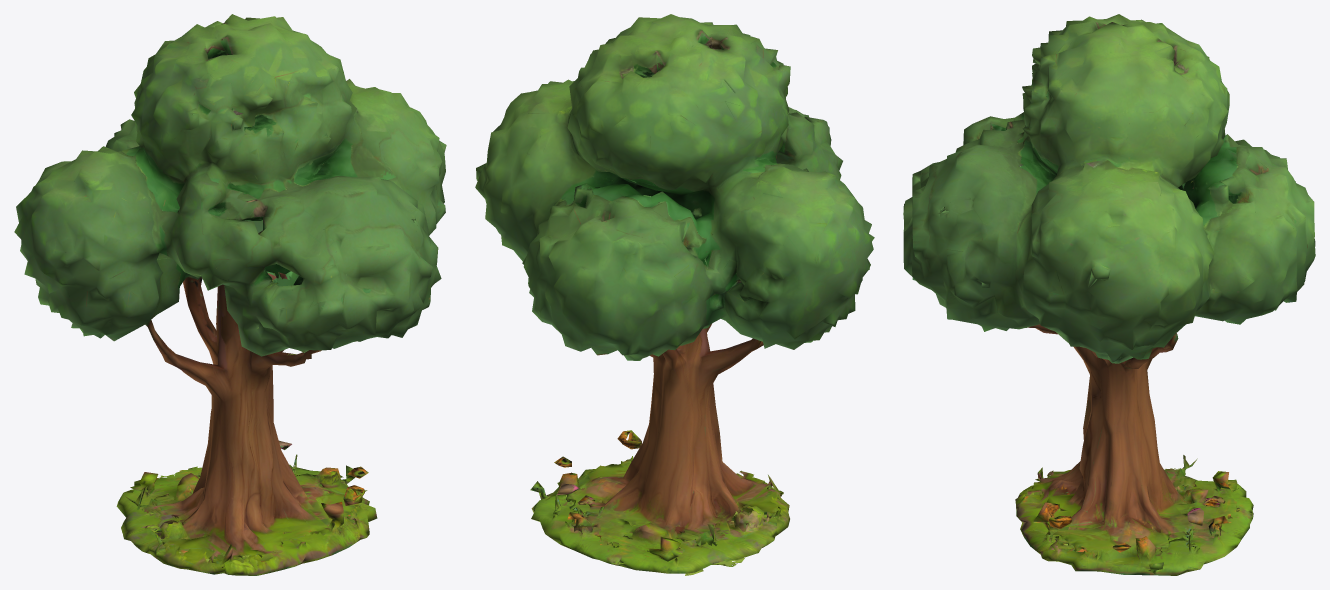
File: Big_Tree_with_branche_0719125442_texture.fbx
3 renders of one model, left to right at view 1: azimuth 30°, elevation 25°; view 2: azimuth 150°, elevation 25°; view 3: azimuth 270°, elevation 25°, orthographic. The views are drawn at different scales.
Visible parts, largest first — view 1: Mesh_0; view 2: Mesh_0; view 3: Mesh_0.
Part boxes in pixels (x1,y1,x2,y2): Mesh_0: (14,14,446,575); Mesh_0: (475,14,874,575); Mesh_0: (903,14,1315,575).
Size of the model in its own units: 160 by 200 by 151.
1 material, 1 textured.
